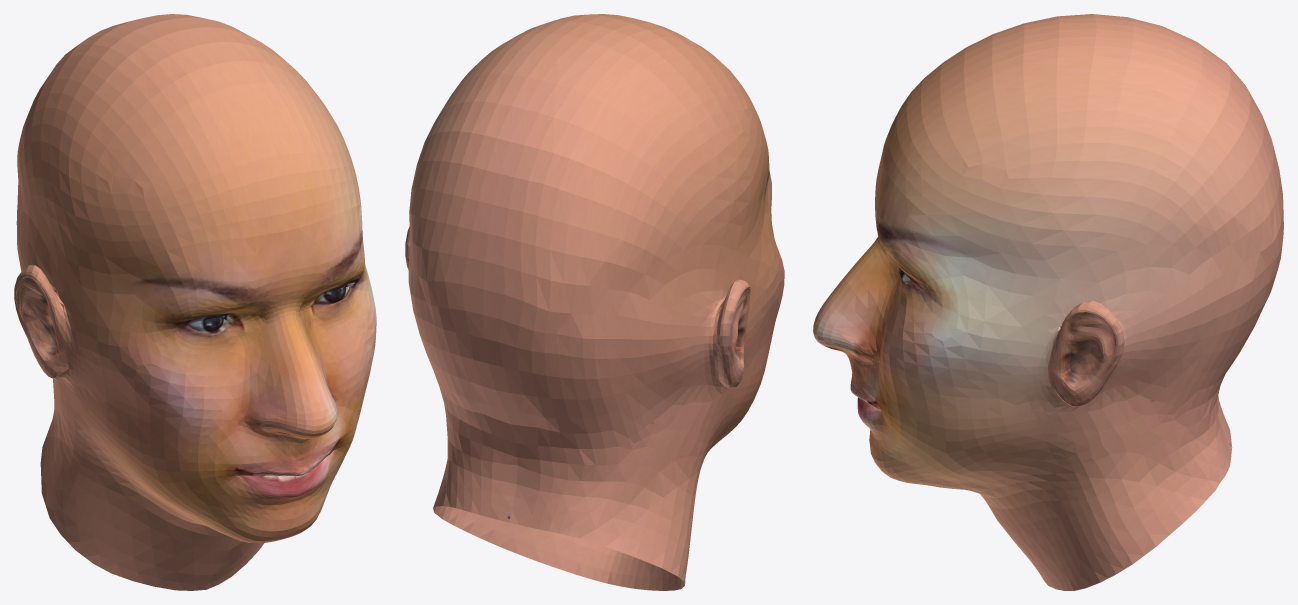
The model's file is jessica.obj.
3 views of the same model, side by side, from view 1: azimuth 30°, elevation 25°; view 2: azimuth 150°, elevation 25°; view 3: azimuth 270°, elevation 25° (orthographic). The views are drawn at different scales.
Visible parts, largest first — view 1: 3, 4, 5; view 2: 4, 5, 3; view 3: 4, 3, 5.
Boxes of the visible parts, x1,y1,x2,y2 form: 3: (78,107,376,543); 4: (14,14,344,456); 5: (40,380,264,590); 4: (405,14,759,482); 5: (433,371,751,590); 3: (693,42,784,418); 4: (964,14,1283,486); 3: (813,48,1038,489); 5: (960,386,1232,590).
Bounding box in the file's own units: 183 × 302 × 235.
